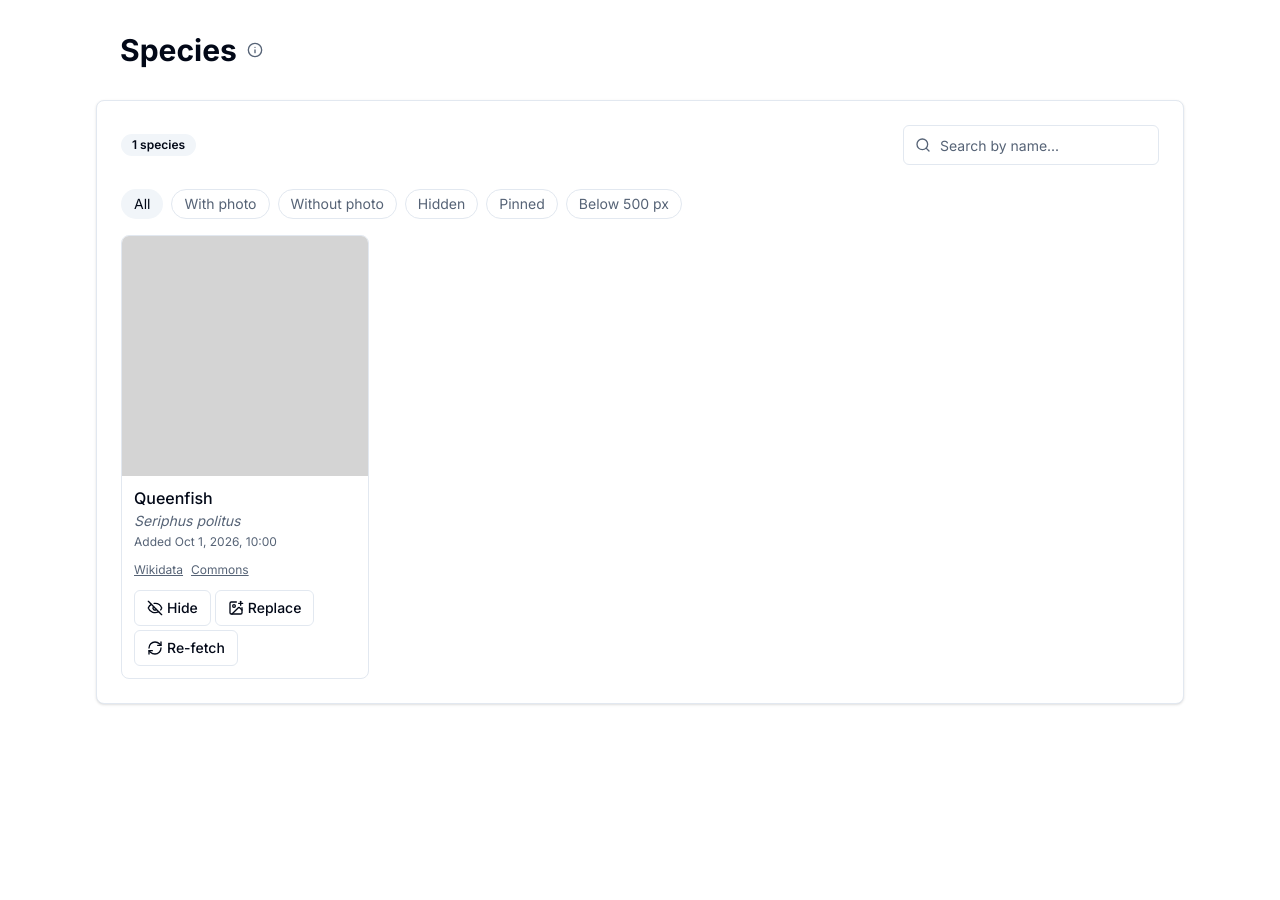
replacing a photo › pins a picked candidate and puts the answer in place
Click the button "Replace": (265, 608) left=215, top=590, right=314, bottom=626
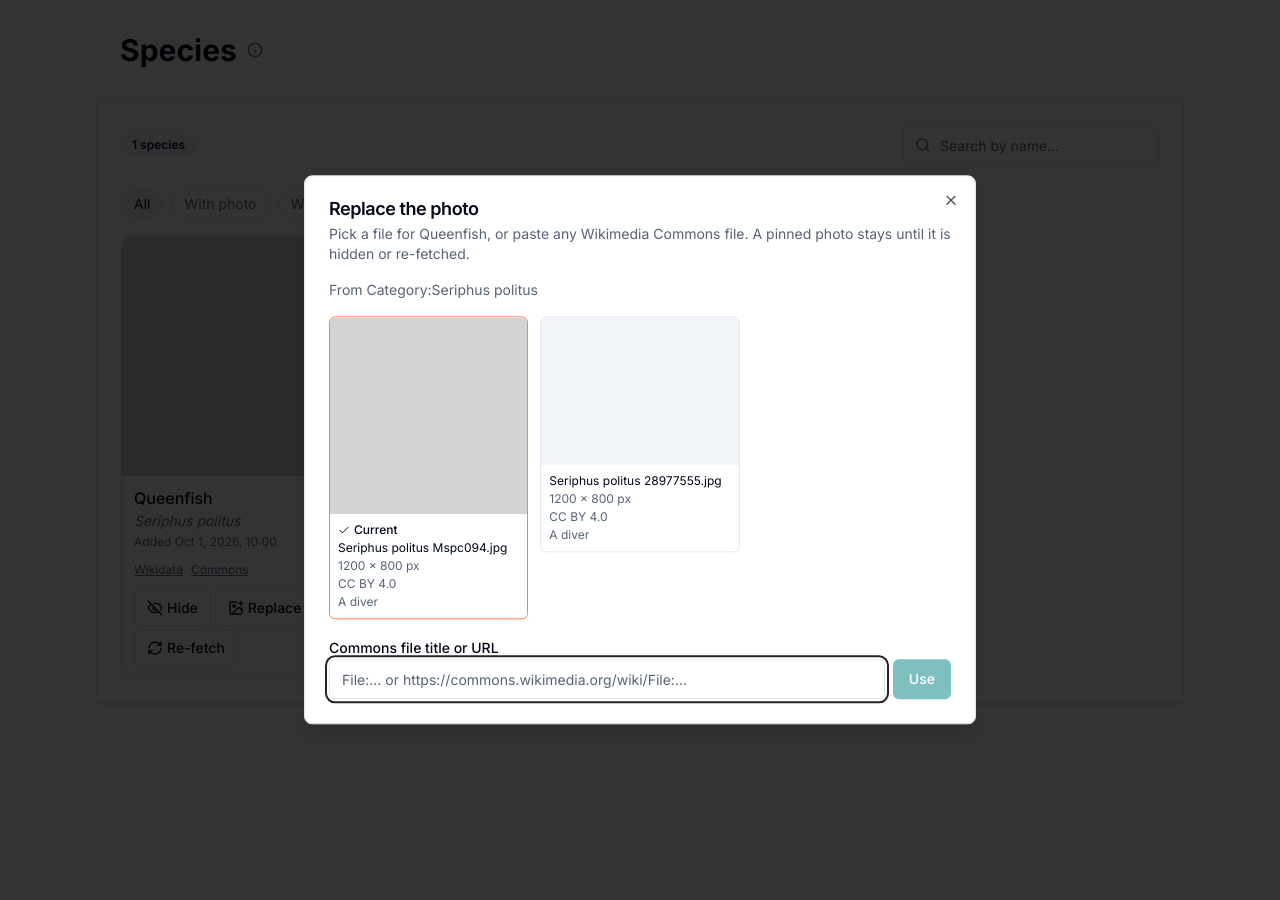
Click the button with aria-label "Use Seriphus politus 28977555.jpg": (640, 434) left=540, top=316, right=740, bottom=552
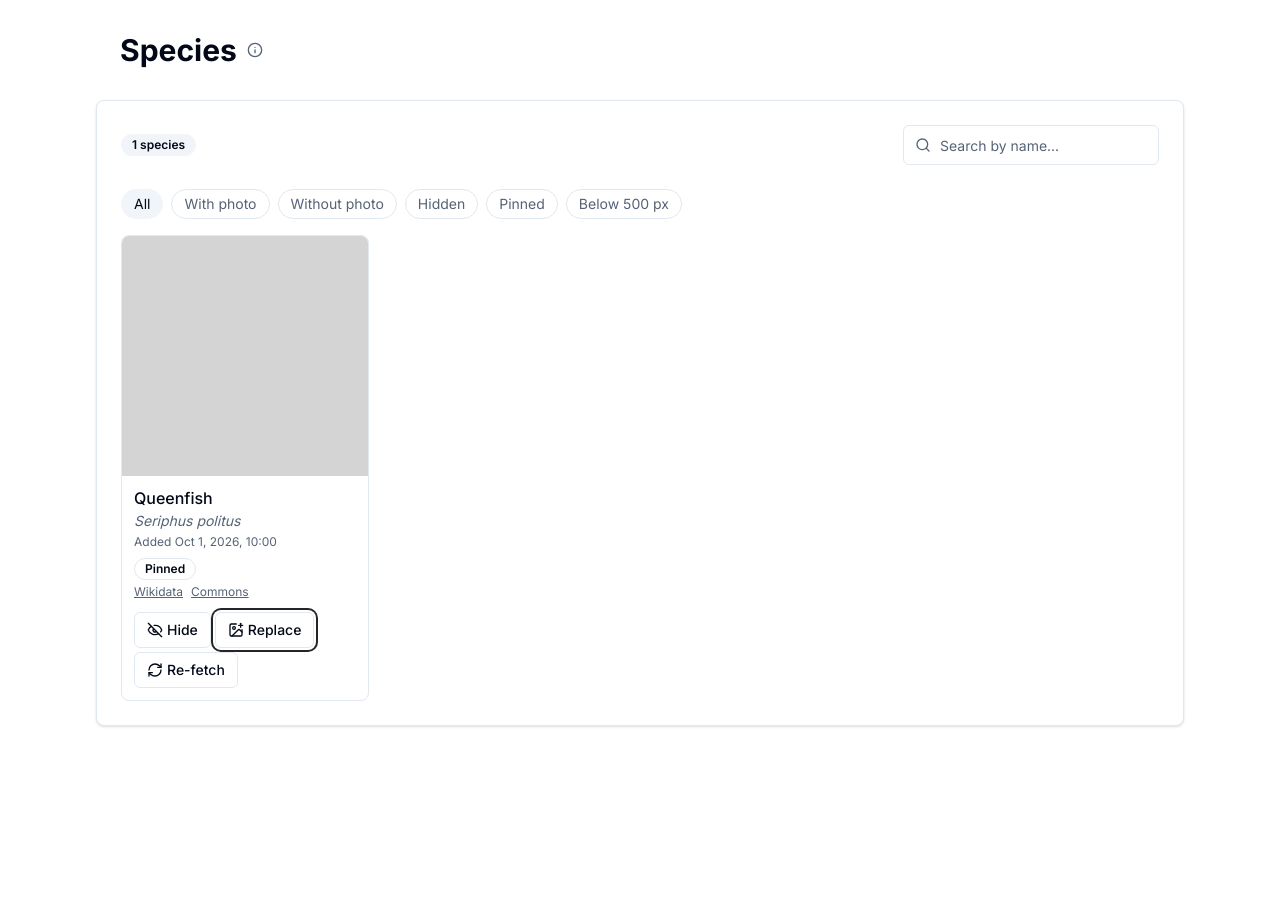
Expected: the text "Pinned" is shown, left=134, top=558, right=196, bottom=580
Expected: the dialog is gone
